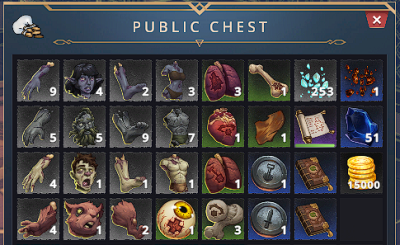chaos ember: (339, 58, 382, 101)
ethereal dust: (294, 58, 337, 102)
gold: (340, 152, 383, 195)
